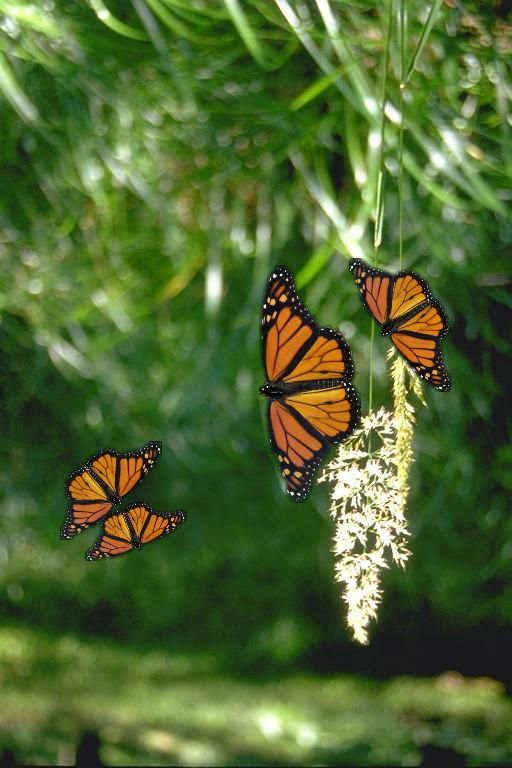danaus_plexippus: (259, 265, 361, 503), (349, 258, 451, 392), (60, 441, 162, 540), (85, 502, 187, 561)
